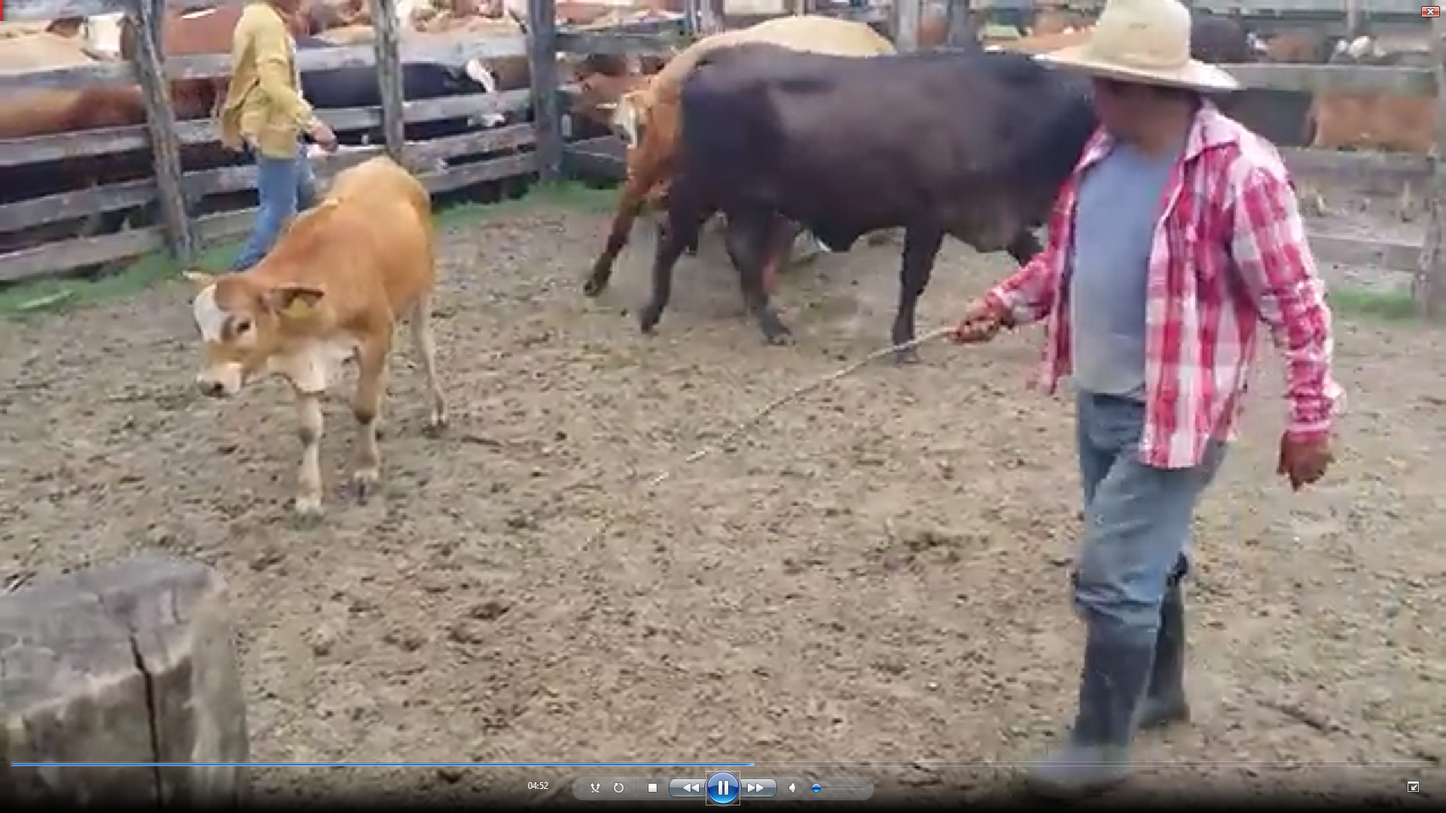bovino: (662, 23, 1040, 215), (217, 165, 439, 484)
